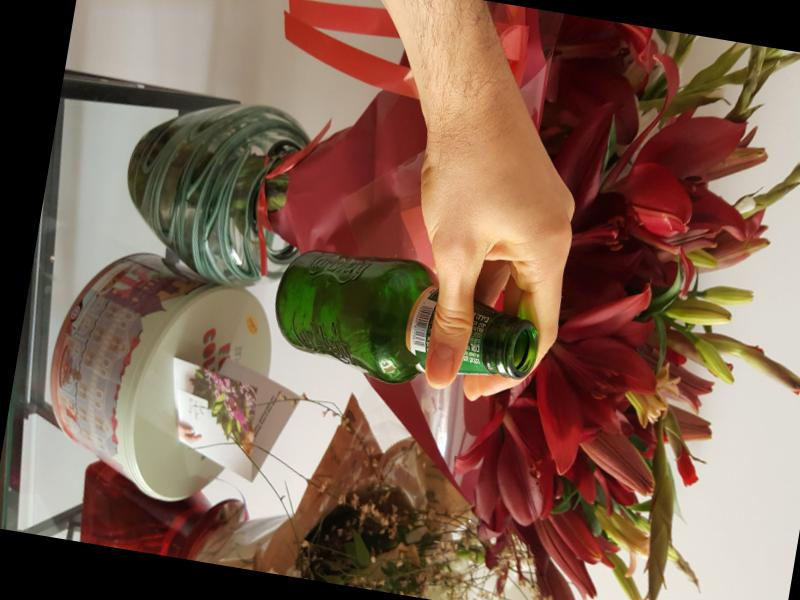Beer: (265, 244, 545, 405)
